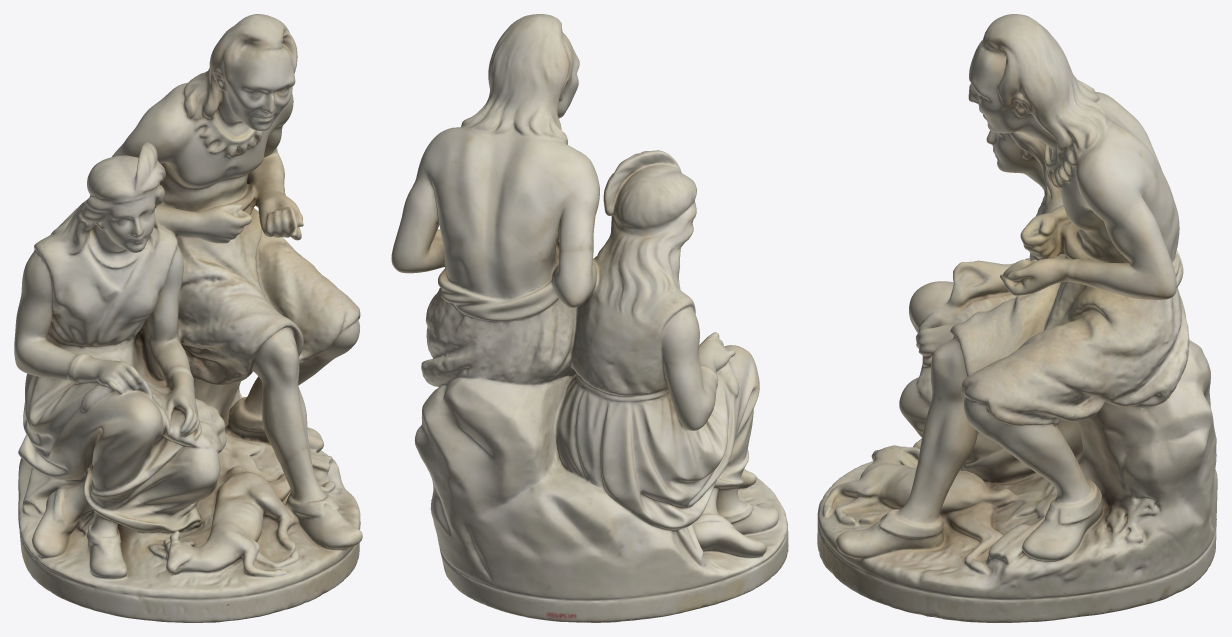
File: arrow-maker.glb
The picture shows the model from 3 angles, left to right: view 1: azimuth 30°, elevation 25°; view 2: azimuth 150°, elevation 25°; view 3: azimuth 270°, elevation 25°; orthographic projection. The views are drawn at different scales.
Bounding box in the file's own units: 0.3494 × 0.5427 × 0.3456.
Materials: 1 (1 with a texture image).
